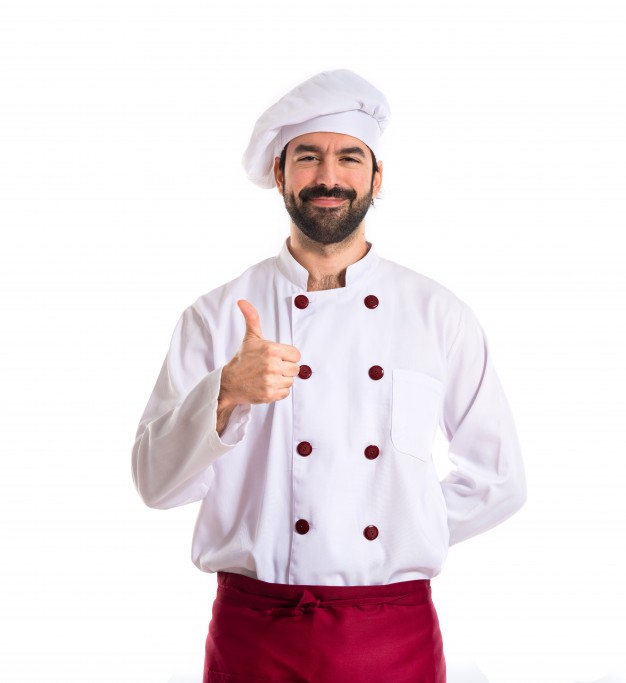thumbsup: (237, 299, 301, 404)
